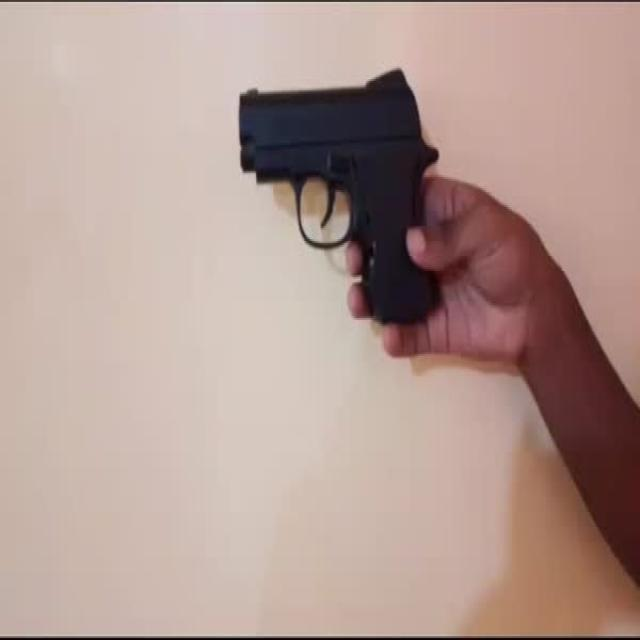weapon: (238, 66, 441, 326)
